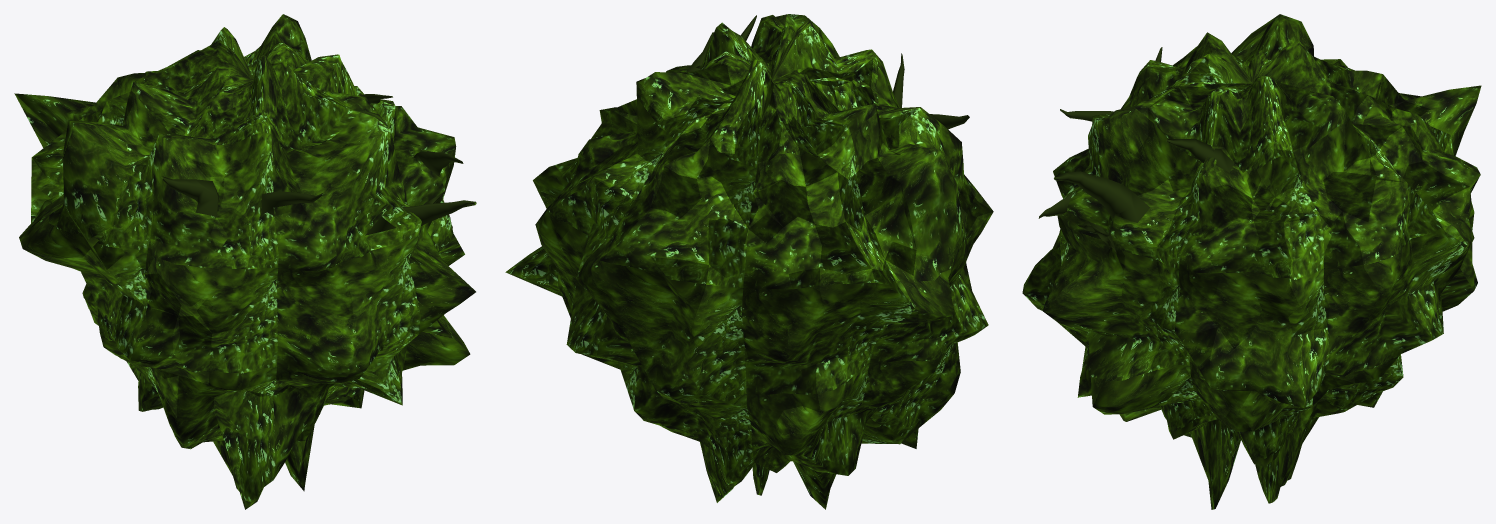
File: virus.FBX
The picture shows the model from 3 angles, left to right: view 1: azimuth 30°, elevation 25°; view 2: azimuth 150°, elevation 25°; view 3: azimuth 270°, elevation 25°; orthographic projection. The views are drawn at different scales.
Visible parts, largest first — view 1: virus1; view 2: virus1; view 3: virus1.
Boxes of the visible parts, <box> form: virus1: <box>14,14,476,509</box>; virus1: <box>505,14,993,509</box>; virus1: <box>1022,14,1481,509</box>.
Bounding box in the file's own units: 79.22 × 80.8 × 73.55.
Materials: 1 (1 with a texture image).
